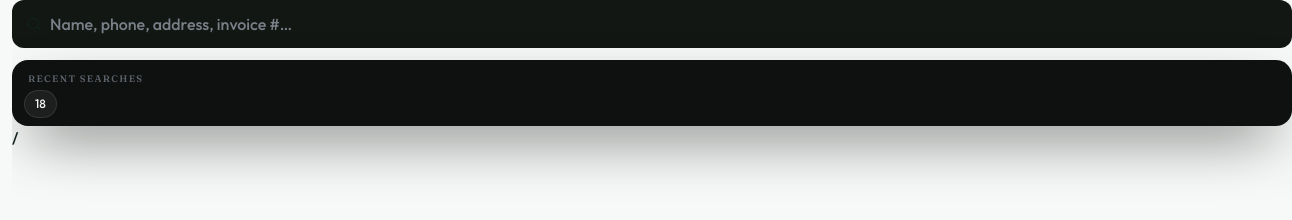
UniversalSearch (embedded / mobile) › supports keyboard selection with Enter
Later steps or results of the test are not shown.
Type "9x" into the search field named "Search records" at (664, 24), box [50,12,1278,36]
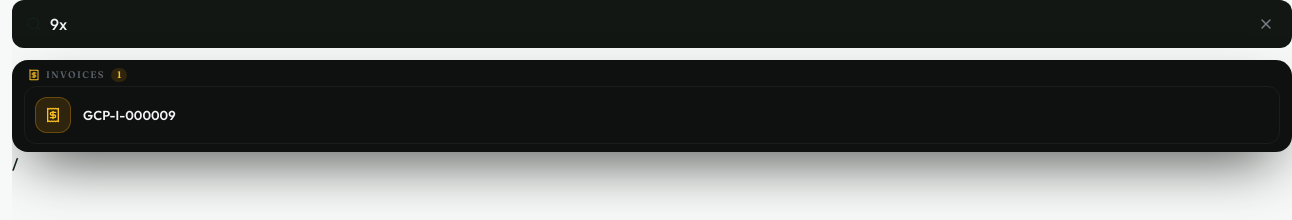
Now the text "GCP-I-000009" is shown, box [83,106,176,122]
